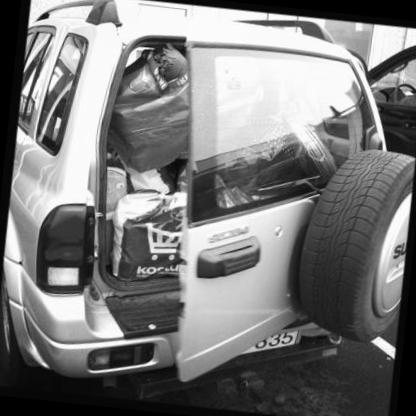car: (1, 1, 416, 410)
